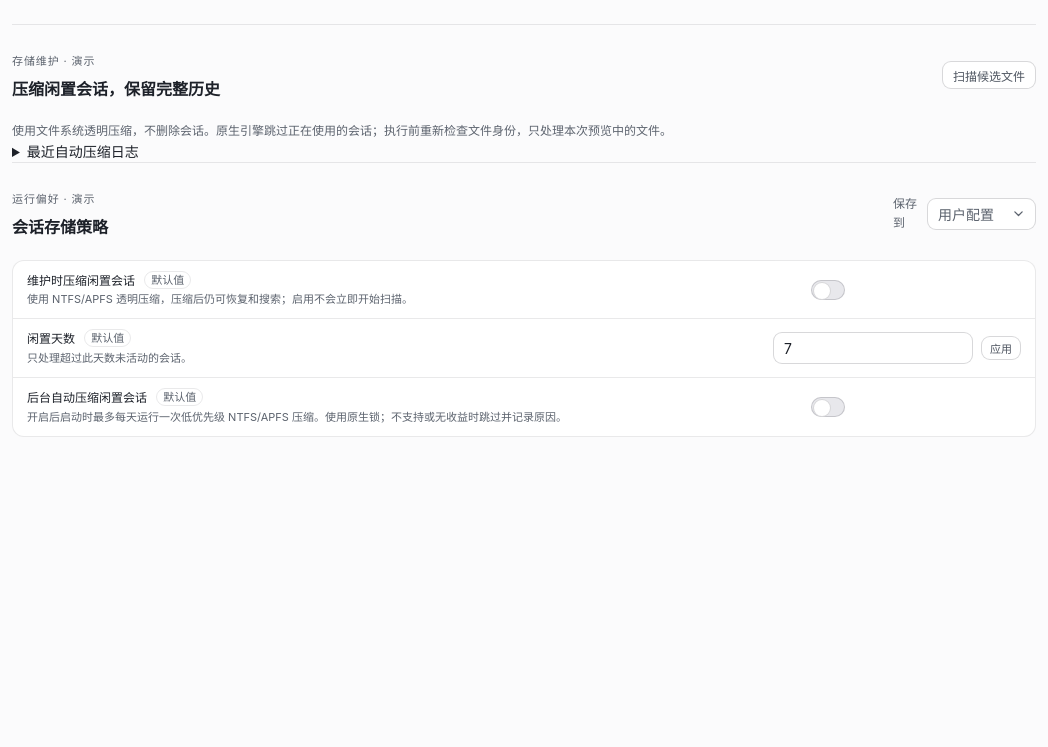
Test: separates compression scanning from applying the reviewed inventory
Check: the button "压缩这些文件" is not shown
Click the button "扫描候选文件". click: (989, 75)
box: [942,61,1036,89]
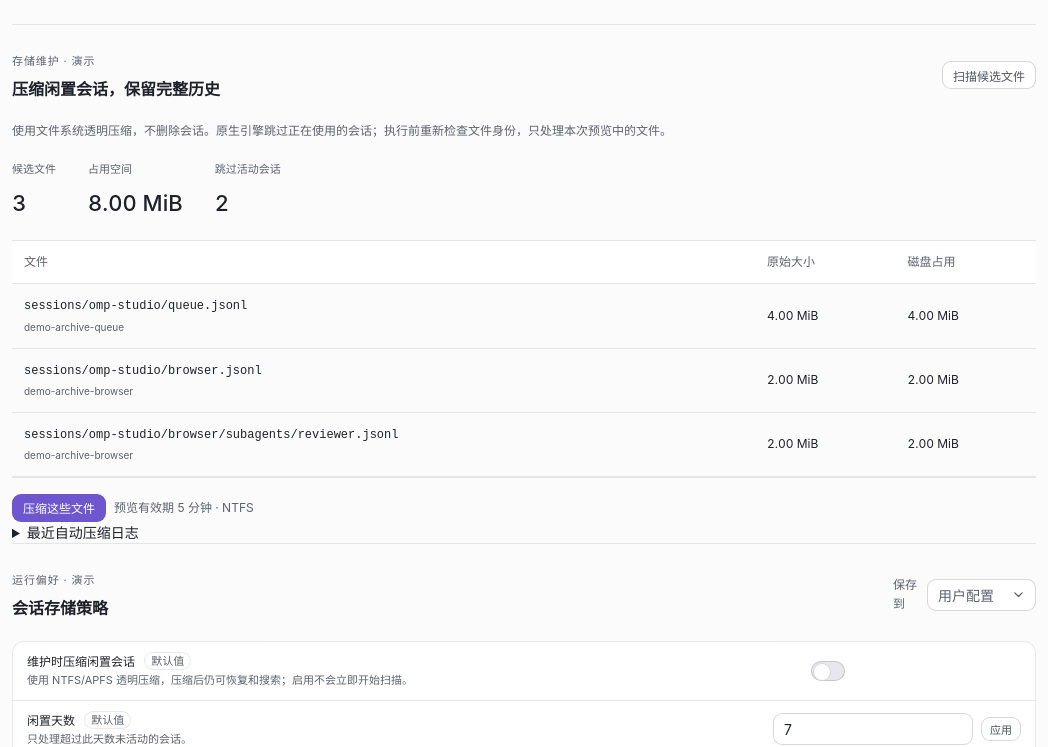
Check: the text "sessions/omp-studio/queue.jsonl" is shown, box [24,299,247,313]
Click the button "压缩这些文件". click: (59, 508)
box: [12,494,106,522]
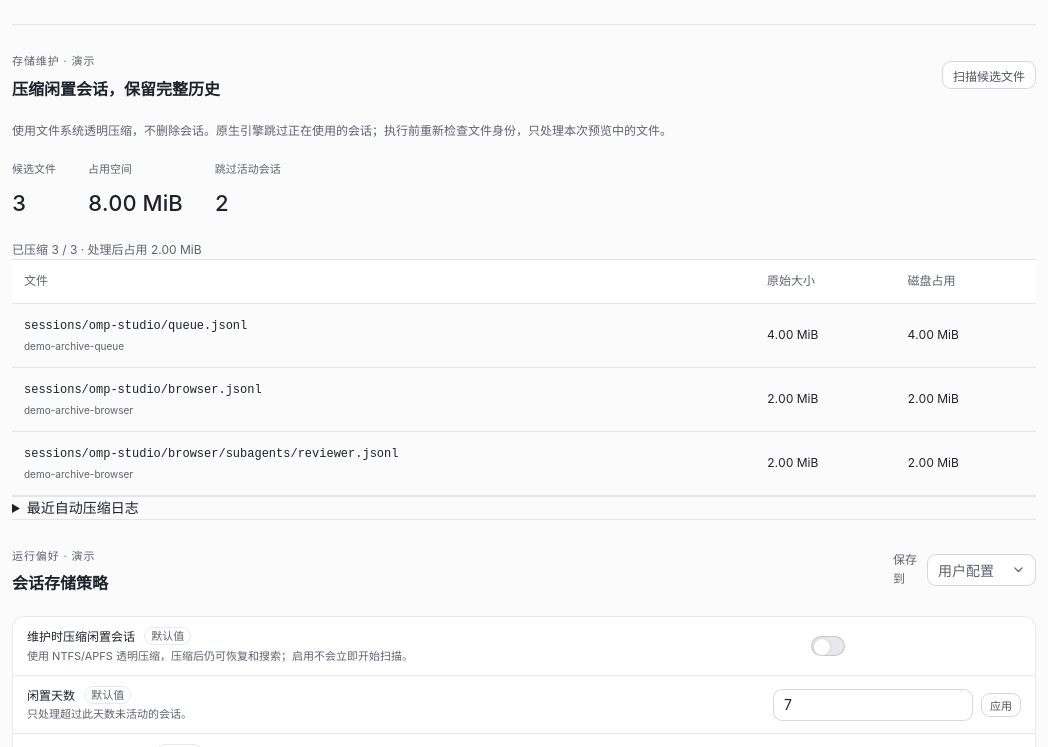
Check: the text "已压缩 3 / 3 · 处理后占用 2.00 MiB" is shown, box [12,242,202,257]
